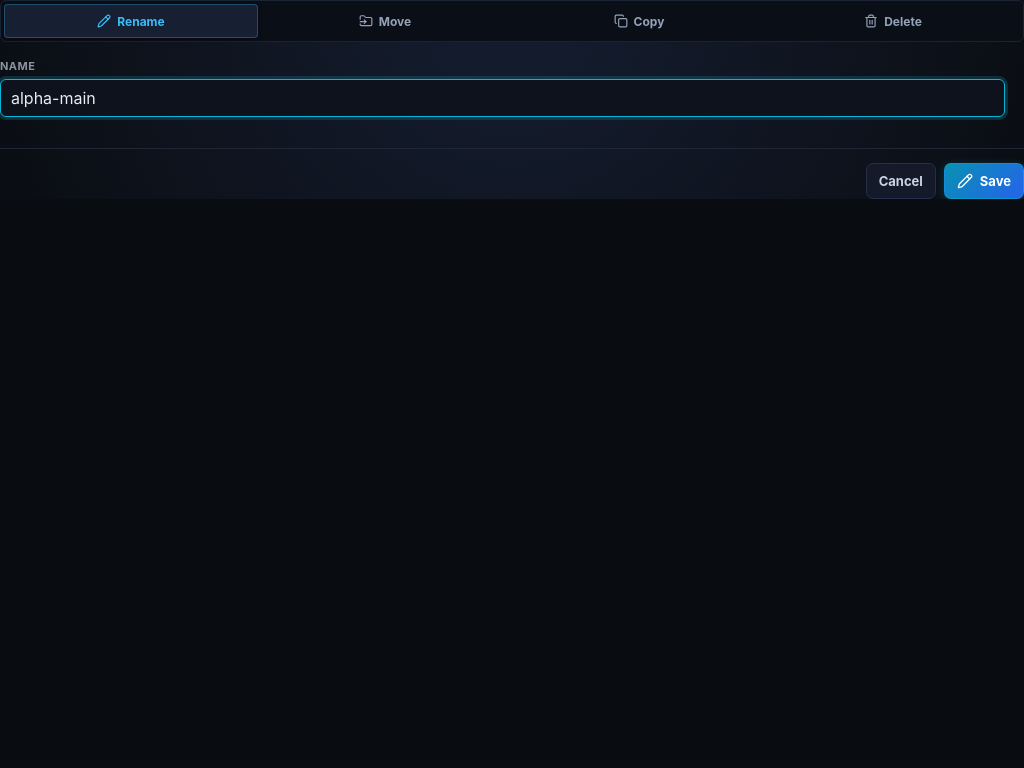
shows blockers for the selected deletion mode only
What coordinates should you click on to do the following:
click the tab "Delete"
I would click on:
 (893, 21)
Its box is [766,4,1020,38].
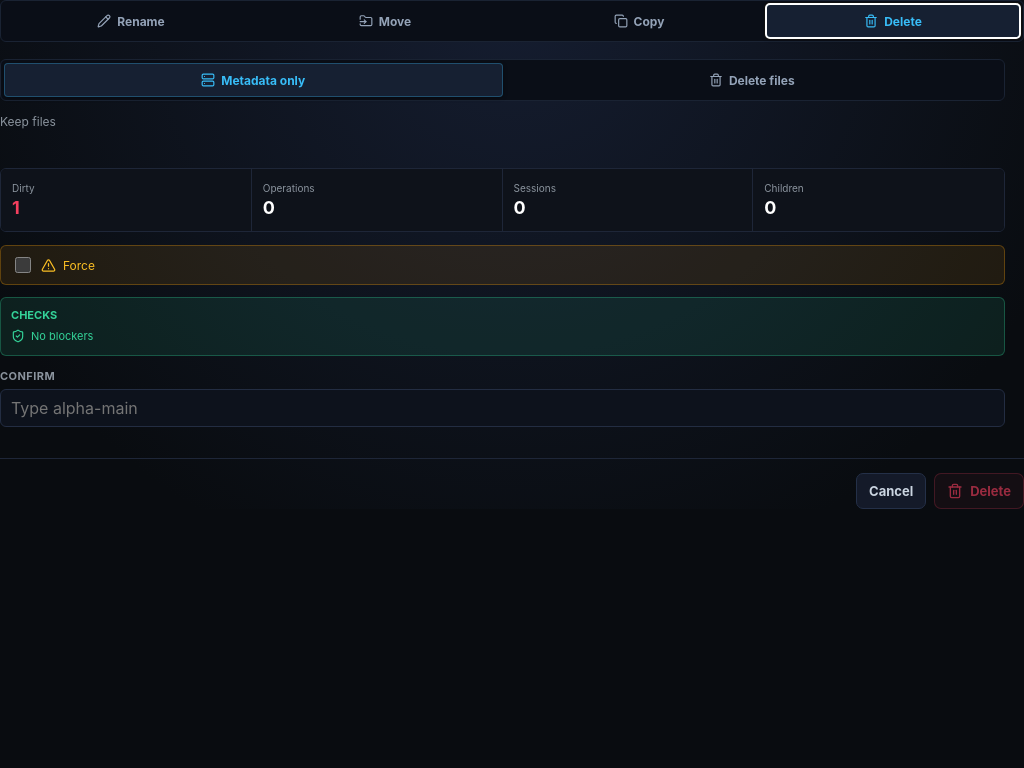
Expected: the text "Uncommitted changes" is not shown
Result: the text "No blockers" is shown at [11,329,93,343]
What coordinates should you click on to do the following:
click the tab "Delete files"
I would click on:
 (752, 80)
Its box is [502,63,1001,97].
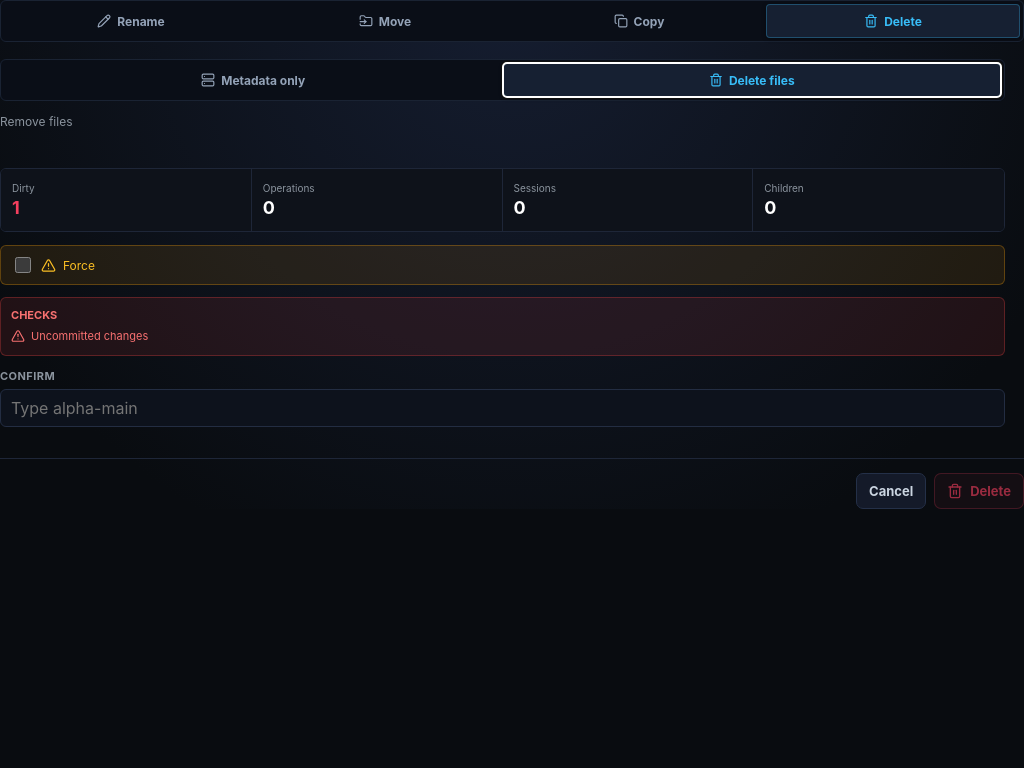
Result: the text "Uncommitted changes" is shown at [11,329,148,343]
